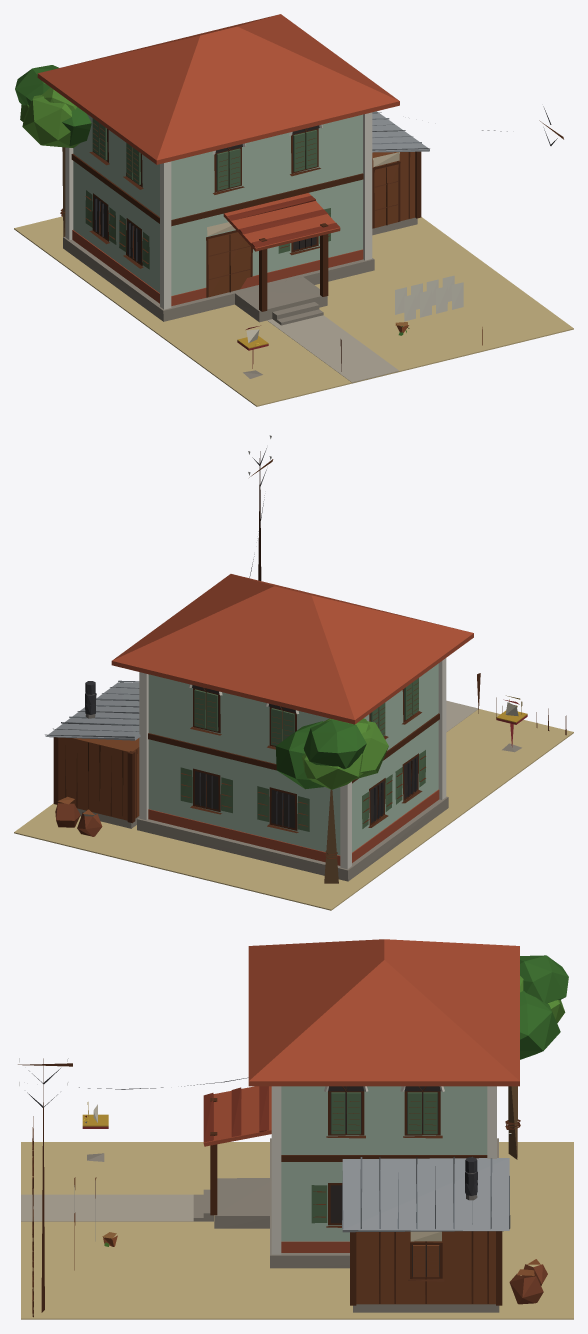
Rendered from house12_2.glb.
The picture shows the model from 3 angles, top to bottom: view 1: azimuth 30°, elevation 25°; view 2: azimuth 150°, elevation 25°; view 3: azimuth 270°, elevation 25°; orthographic projection. The views are drawn at different scales.
Parts seen in each view (by area): view 1: body, windows; view 2: body, windows; view 3: body, windows.
Boxes of the visible parts, left/top/right/bottom form: body: left=14, top=14, right=573, bottom=406; windows: left=93, top=125, right=319, bottom=263; body: left=14, top=435, right=573, bottom=910; windows: left=192, top=685, right=418, bottom=828; body: left=18, top=939, right=573, bottom=1319; windows: left=328, top=1086, right=440, bottom=1276.
Size of the model in its own units: 12.71 by 8.52 by 16.1.
